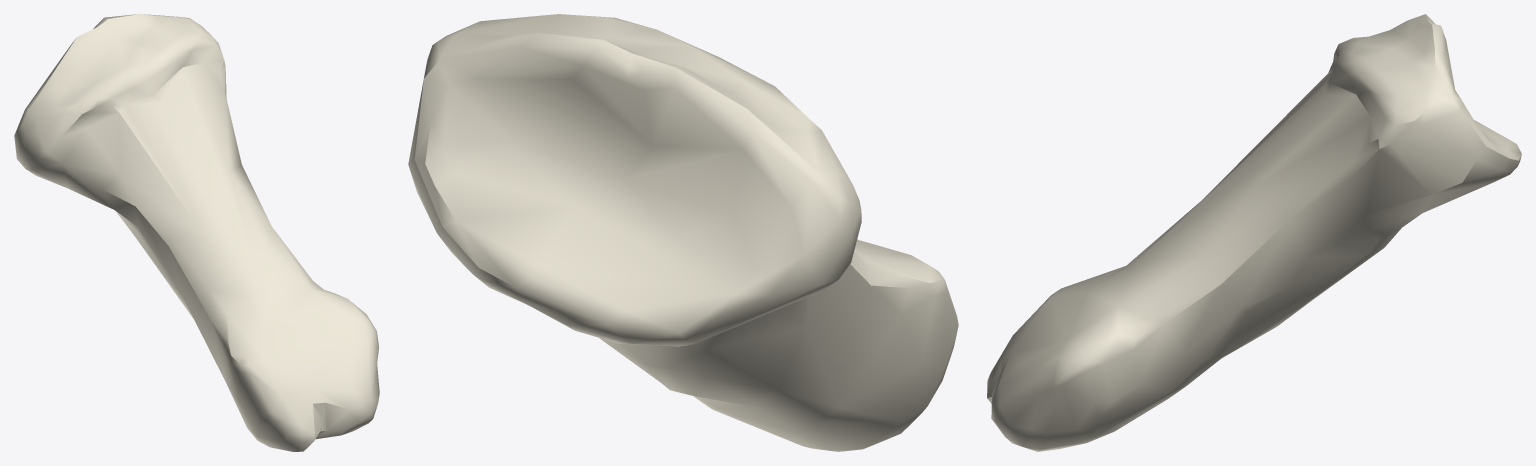
Rendered from fma23953.glb.
3 renders of one model, left to right at view 1: azimuth 30°, elevation 25°; view 2: azimuth 150°, elevation 25°; view 3: azimuth 270°, elevation 25°, orthographic. The views are drawn at different scales.
Parts seen in each view (by area): view 1: FMA23953; view 2: FMA23953; view 3: FMA23953.
Boxes of the visible parts, left/top/right/bottom form: FMA23953: left=14, top=14, right=379, bottom=451; FMA23953: left=408, top=14, right=958, bottom=451; FMA23953: left=987, top=14, right=1521, bottom=451.
Size of the model in its own units: 0.0101 by 0.0139 by 0.0171.
